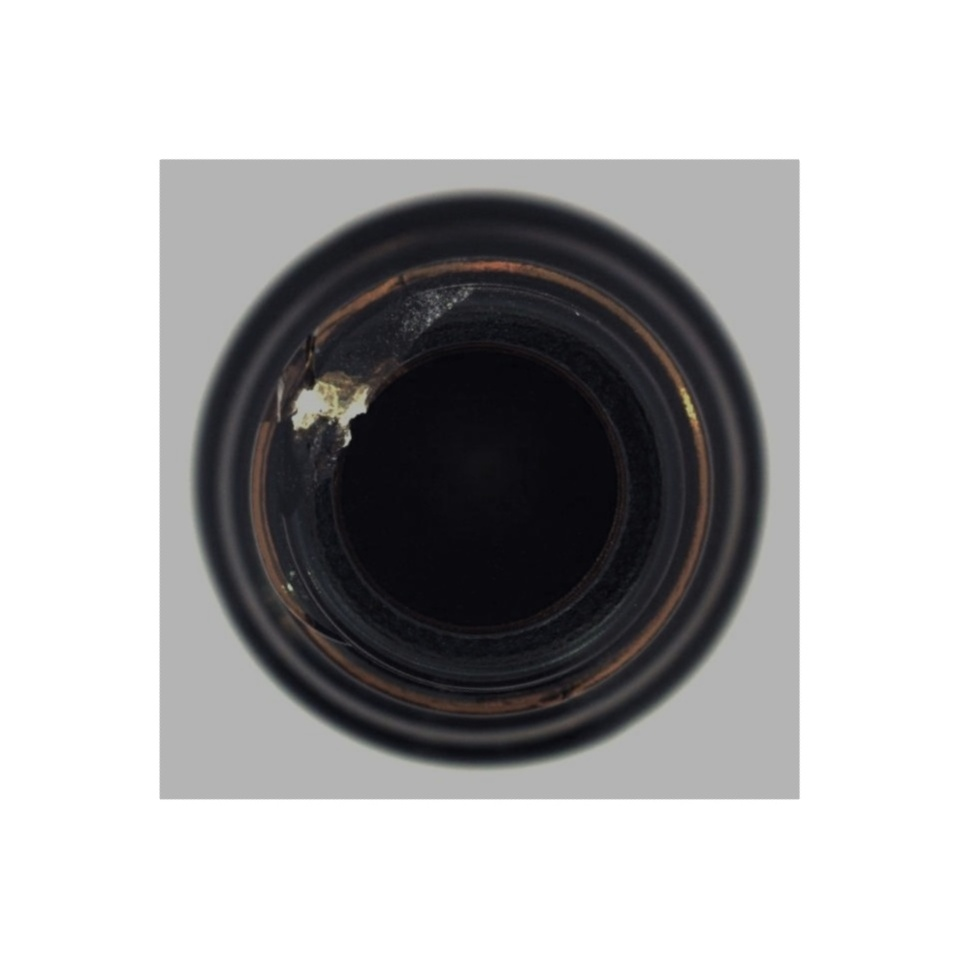bad-broken_large: (45, 41, 913, 911)
